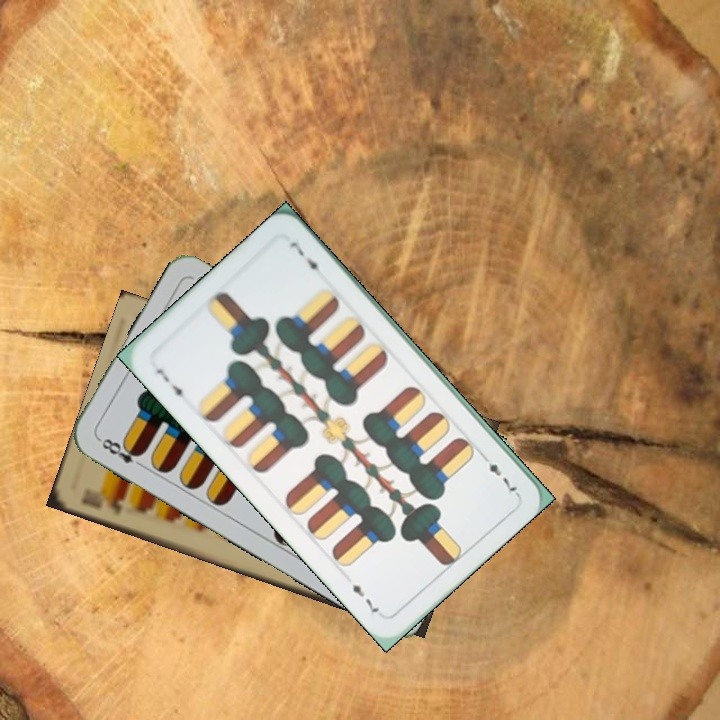E10: (77, 490, 126, 518)
E7: (477, 449, 521, 497), (151, 364, 189, 406)
E8: (94, 434, 147, 471)
